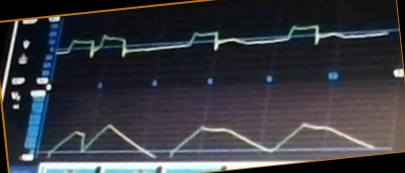Double_Triggering Flow: (62, 18, 355, 70)
Double_Triggering Volume: (46, 110, 373, 160)
